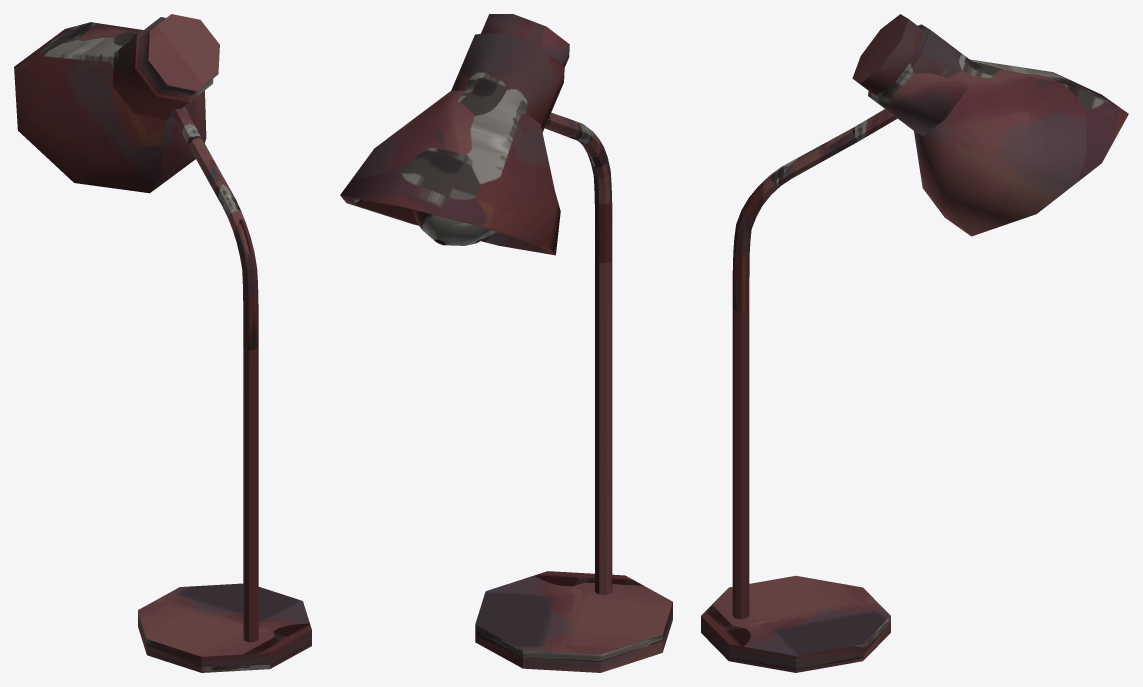
File: table lamp.fbx
3 renders of one model, left to right at view 1: azimuth 30°, elevation 25°; view 2: azimuth 150°, elevation 25°; view 3: azimuth 270°, elevation 25°, orthographic. The views are drawn at different scales.
Visible parts, largest first — view 1: table lamp; view 2: table lamp; view 3: table lamp.
Boxes of the visible parts, left/top/right/bottom form: table lamp: left=14, top=14, right=311, bottom=672; table lamp: left=340, top=14, right=672, bottom=672; table lamp: left=701, top=14, right=1128, bottom=672.
Bounding box in the file's own units: 145 × 453 × 286.
